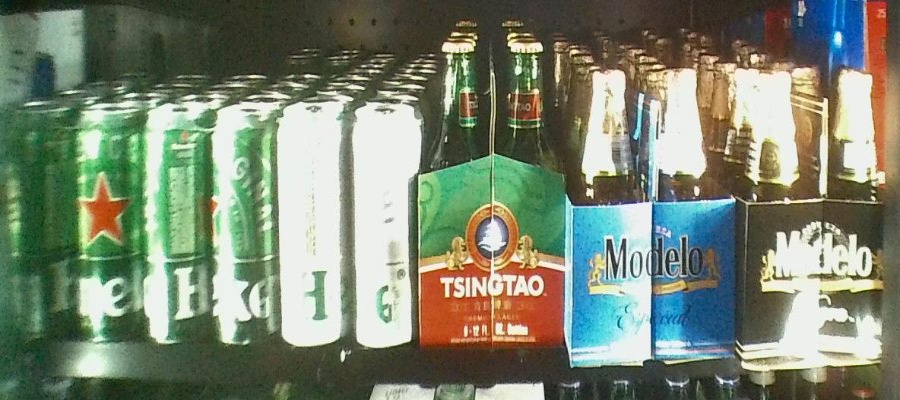bottle: (571, 66, 737, 365), (420, 33, 568, 346), (742, 66, 889, 366), (3, 103, 143, 346), (278, 106, 415, 348), (147, 104, 278, 341)
